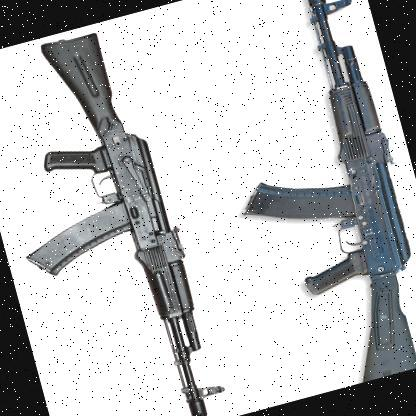rifle: (0, 10, 265, 416), (178, 0, 416, 402)
